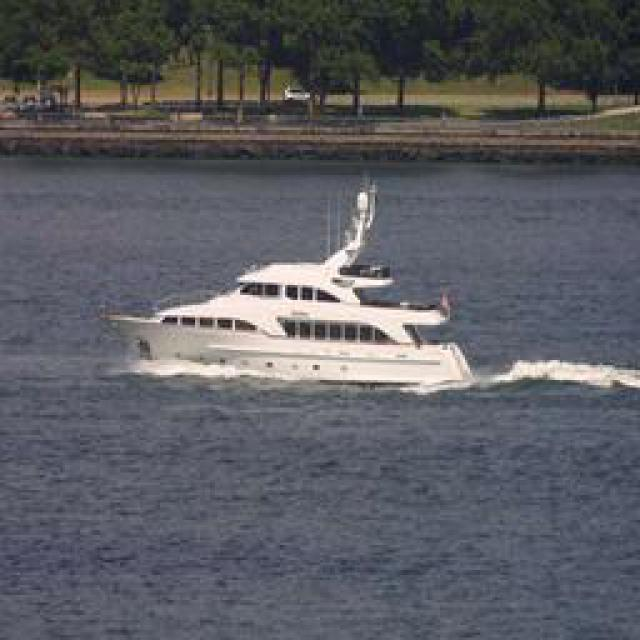Ship: (104, 183, 474, 391)
